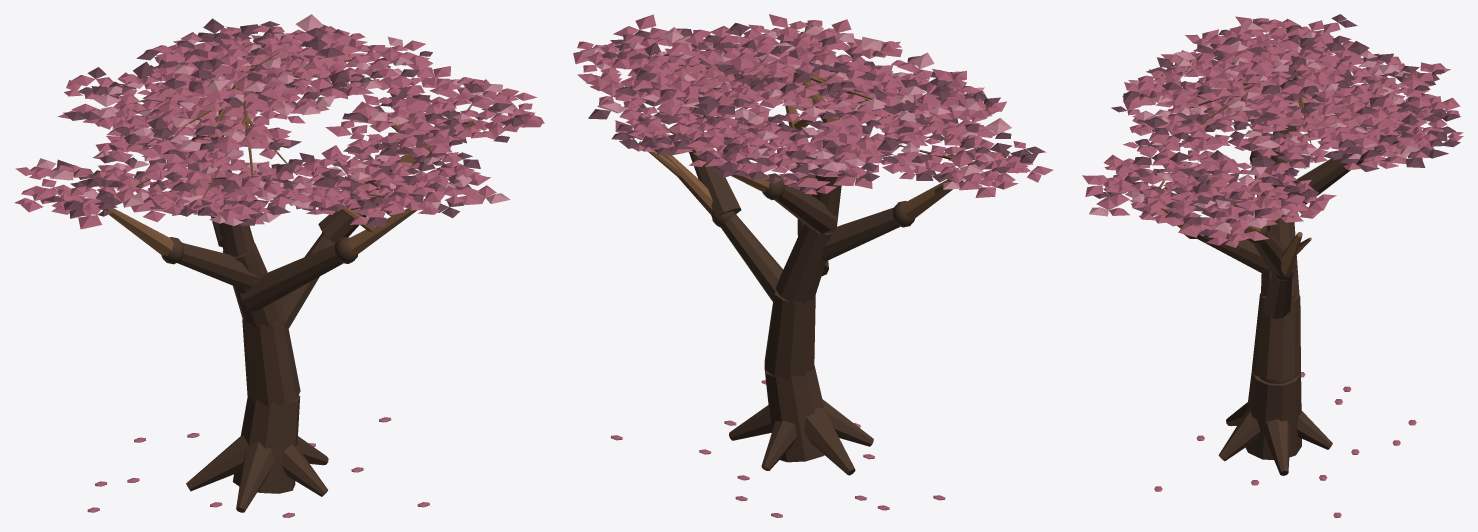
File: tree.glb
The picture shows the model from 3 angles, left to right: view 1: azimuth 30°, elevation 25°; view 2: azimuth 150°, elevation 25°; view 3: azimuth 270°, elevation 25°; orthographic projection. The views are drawn at different scales.
Parts seen in each view (by area): view 1: tree_Blossom_coral, tree_Timber, tree_Blossom_shade, tree_Blossom_light, tree_Timber_edge; view 2: tree_Blossom_coral, tree_Timber, tree_Blossom_shade, tree_Blossom_light, tree_Timber_edge; view 3: tree_Blossom_coral, tree_Timber, tree_Blossom_shade, tree_Blossom_light, tree_Timber_edge.
Boxes of the visible parts, left/top/right/bottom form: tree_Blossom_coral: left=14, top=25, right=544, bottom=517; tree_Timber: left=161, top=135, right=400, bottom=512; tree_Blossom_shade: left=44, top=18, right=529, bottom=226; tree_Blossom_light: left=36, top=14, right=513, bottom=225; tree_Timber_edge: left=100, top=52, right=475, bottom=255; tree_Blossom_coral: left=573, top=14, right=1053, bottom=517; tree_Timber: left=682, top=123, right=915, bottom=475; tree_Blossom_shade: left=588, top=22, right=1045, bottom=192; tree_Blossom_light: left=582, top=25, right=1011, bottom=189; tree_Timber_edge: left=638, top=51, right=971, bottom=218; tree_Blossom_coral: left=1082, top=16, right=1463, bottom=517; tree_Timber: left=1184, top=125, right=1363, bottom=475; tree_Blossom_shade: left=1093, top=14, right=1460, bottom=235; tree_Blossom_light: left=1089, top=22, right=1419, bottom=233; tree_Timber_edge: left=1154, top=55, right=1406, bottom=275.
Bounding box in the file's own units: 4.85 × 4.01 × 3.48.
